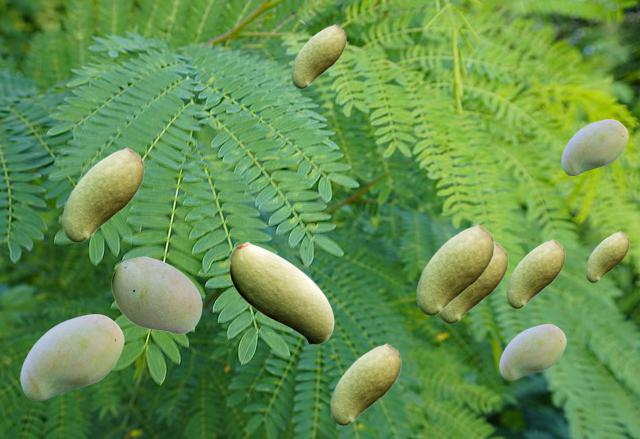green_mango: (229, 241, 333, 344), (20, 314, 123, 399), (62, 147, 143, 241), (111, 256, 201, 333), (416, 224, 493, 314), (330, 343, 400, 424), (438, 241, 507, 322), (506, 239, 564, 307), (561, 119, 627, 174), (499, 324, 565, 379), (291, 24, 345, 87), (585, 231, 628, 281)
